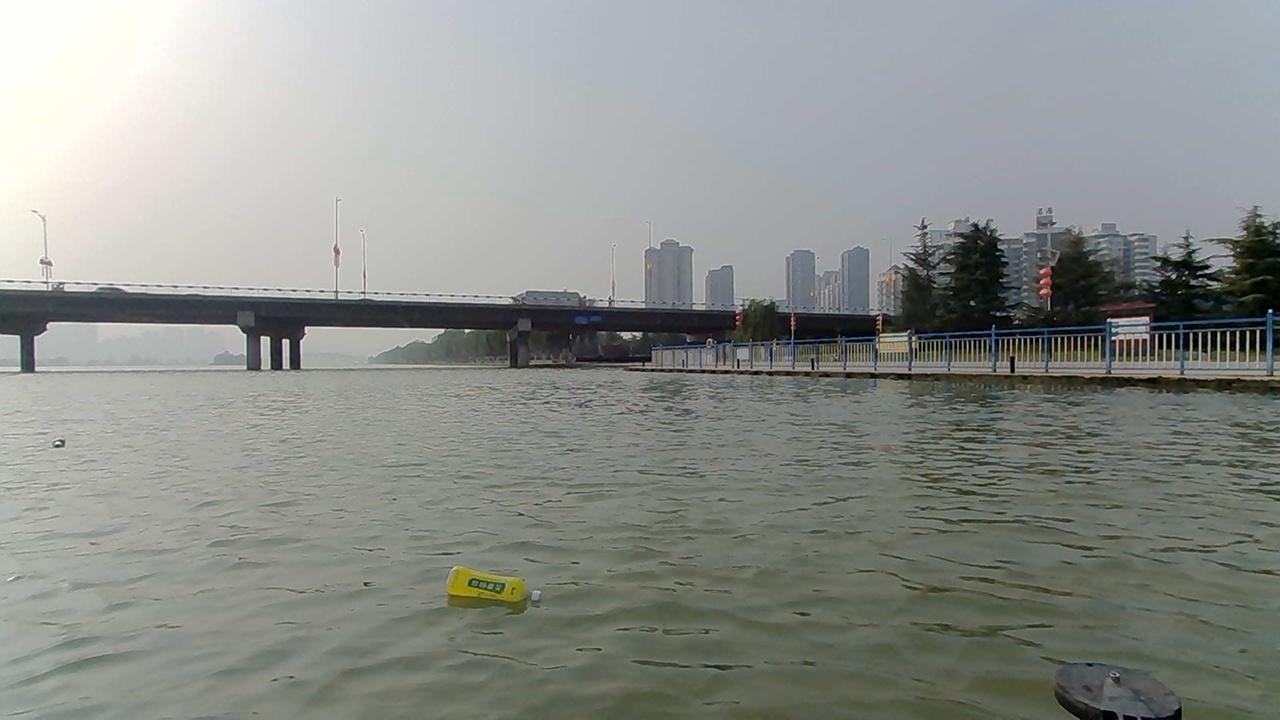bottle: (445, 565, 542, 602), (51, 436, 64, 446)
